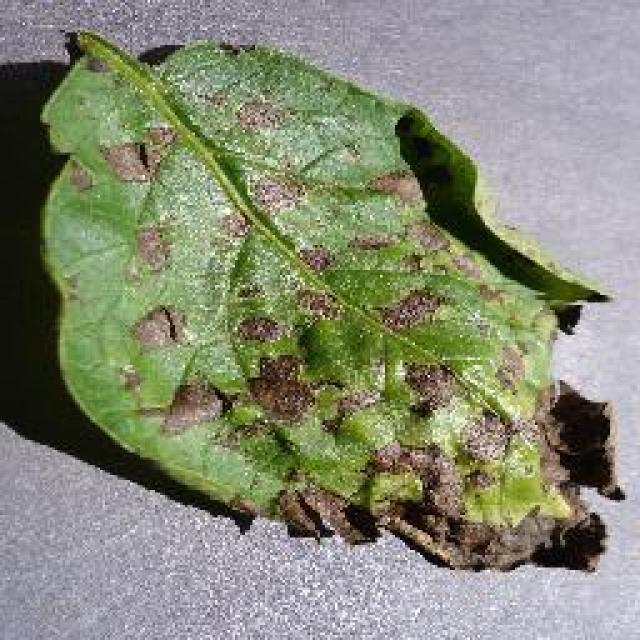Potato___Early_blight: (34, 21, 627, 575)
